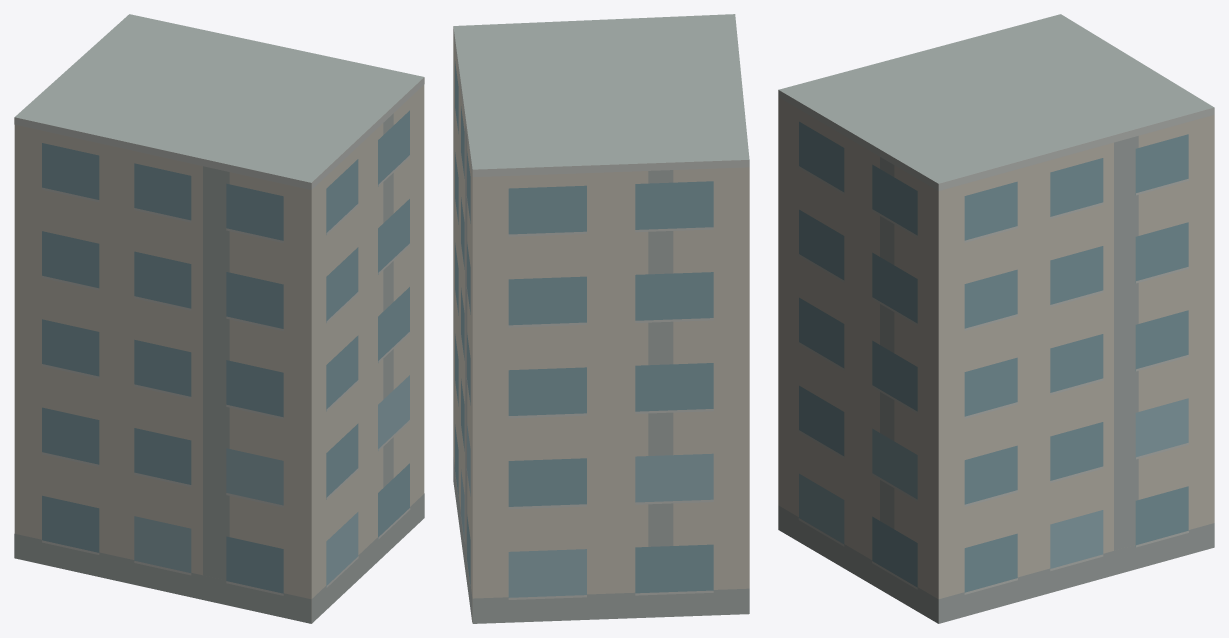
File: survey-upis-32678016.glb
3 renders of one model, left to right at view 1: azimuth 30°, elevation 25°; view 2: azimuth 150°, elevation 25°; view 3: azimuth 270°, elevation 25°, orthographic. The views are drawn at different scales.
Parts seen in each view (by area): view 1: survey-upis-32678016.tmp; view 2: survey-upis-32678016.tmp; view 3: survey-upis-32678016.tmp.
Boxes of the visible parts, bbox=[...] form: survey-upis-32678016.tmp: bbox=[14, 14, 424, 623]; survey-upis-32678016.tmp: bbox=[453, 14, 749, 623]; survey-upis-32678016.tmp: bbox=[778, 14, 1214, 623].
Size of the model in its own units: 12.22 by 14.75 by 13.26.
